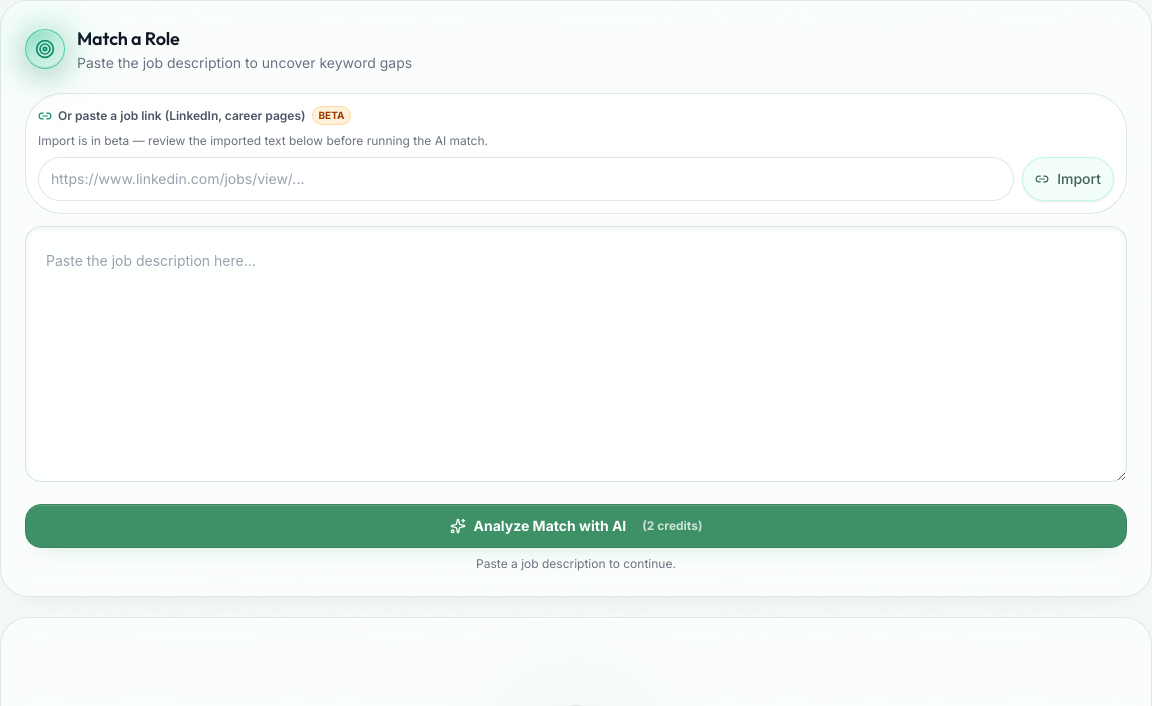
Test case: JobMatch › warns users to review low-confidence URL imports while keeping the text editable
Step 1. Type "https://careers.example.com/jobs/123" into the field with placeholder "https://www.linkedin.com/jobs/view/..." → (526, 179), box x1=38 y1=157 x2=1014 y2=201
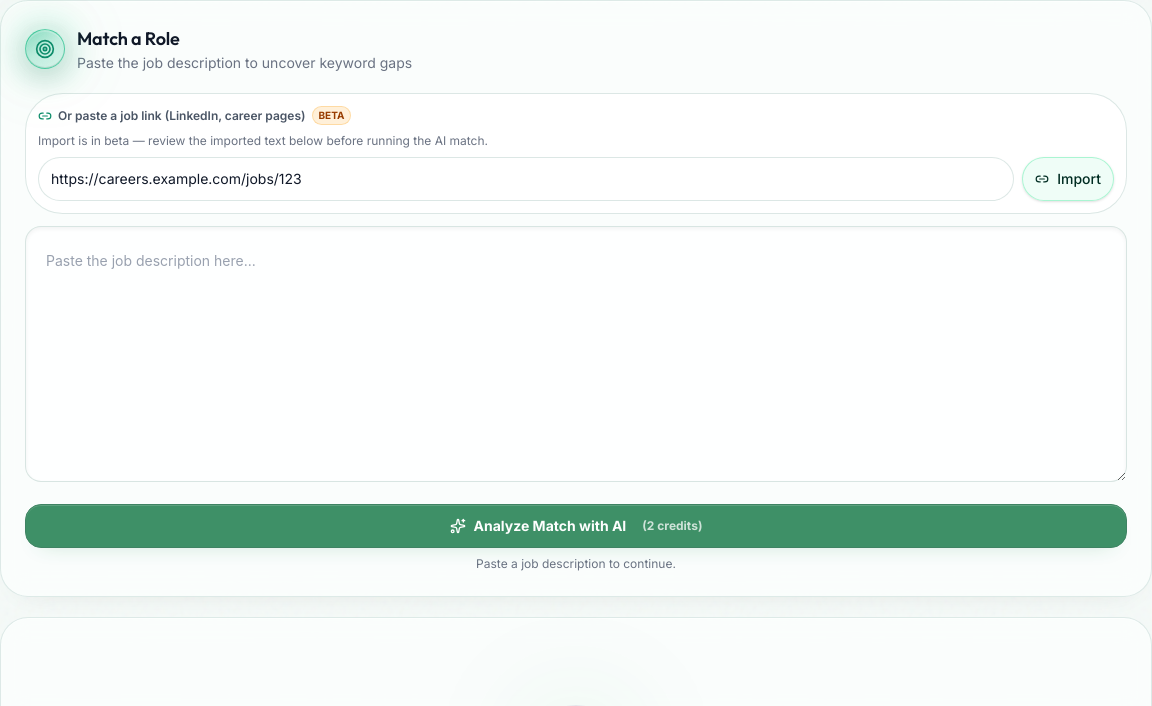
Step 2. Click the button "Import" → (1068, 179), box x1=1022 y1=157 x2=1114 y2=201
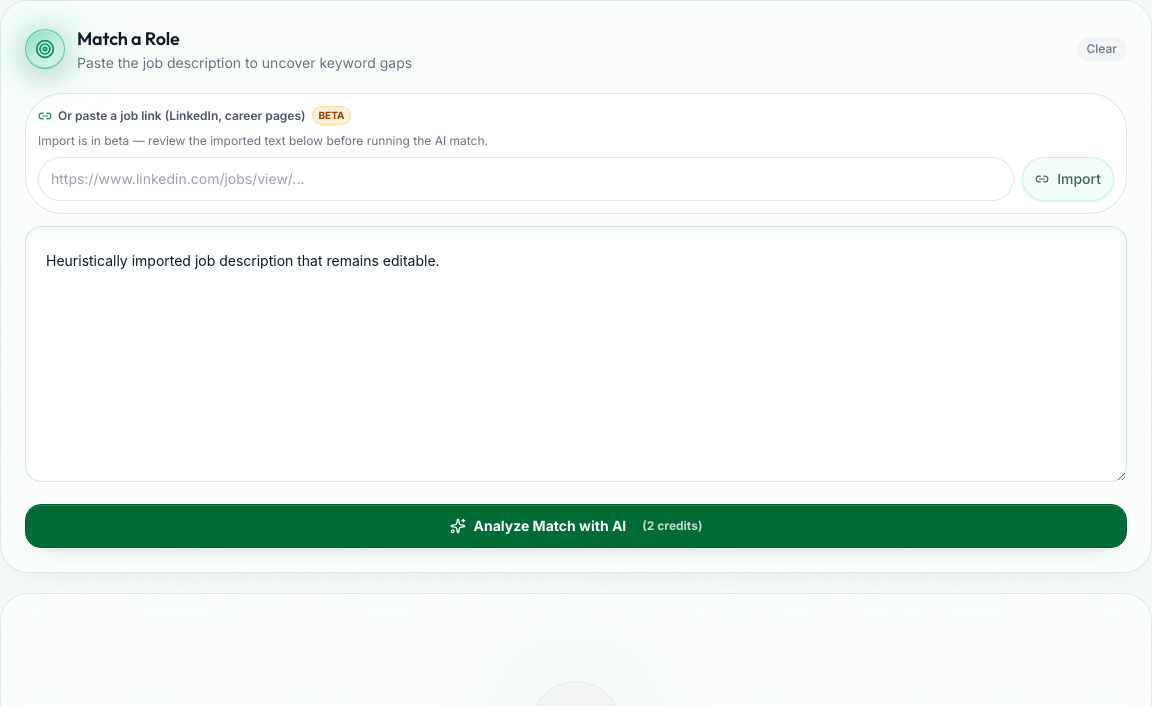
Check: the text box with placeholder "Paste the job description here..." holds "Heuristically imported job description that remains editable.", box x1=25 y1=226 x2=1127 y2=482
